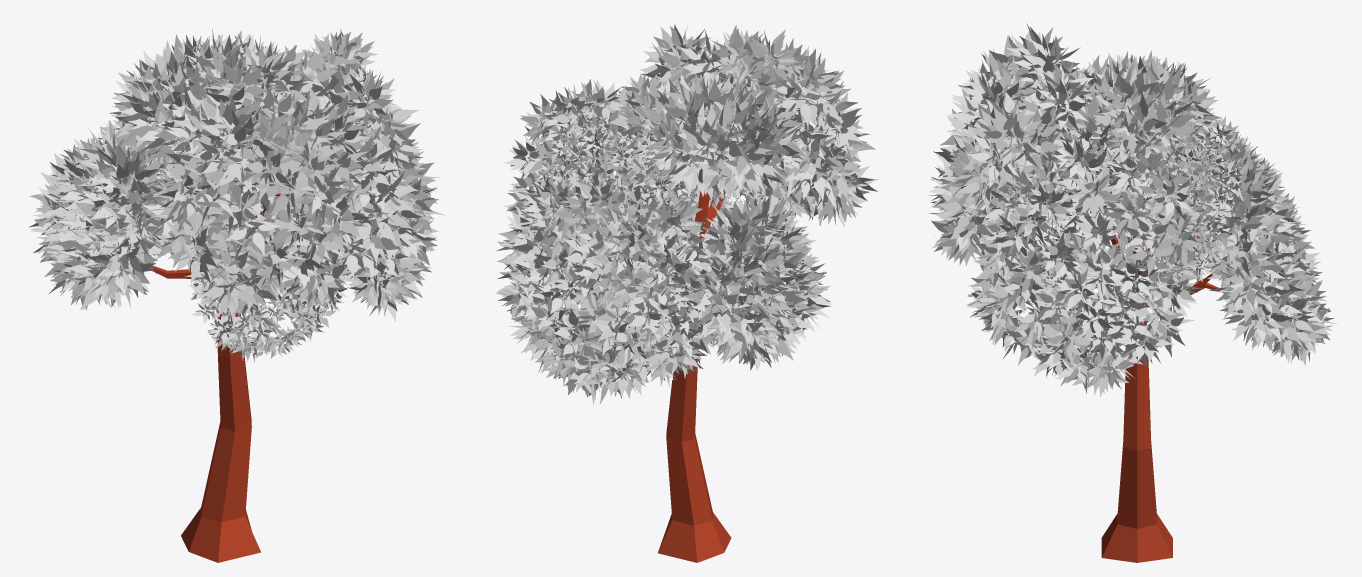
Rendered from Environmental Tree LOD1.fbx.
3 views of the same model, side by side, from view 1: azimuth 30°, elevation 25°; view 2: azimuth 150°, elevation 25°; view 3: azimuth 270°, elevation 25° (orthographic). The views are drawn at different scales.
Parts seen in each view (by area): view 1: Leaves 2, Trunk 2; view 2: Leaves 2, Trunk 2; view 3: Leaves 2, Trunk 2.
Boxes of the visible parts, x1,y1,x2,y2 form: Leaves 2: [29, 29, 445, 362]; Trunk 2: [150, 193, 305, 562]; Leaves 2: [495, 24, 878, 405]; Trunk 2: [658, 191, 731, 562]; Leaves 2: [928, 23, 1337, 396]; Trunk 2: [1097, 192, 1223, 562].
Bounding box in the file's own units: 11.27 × 16.15 × 12.12.
